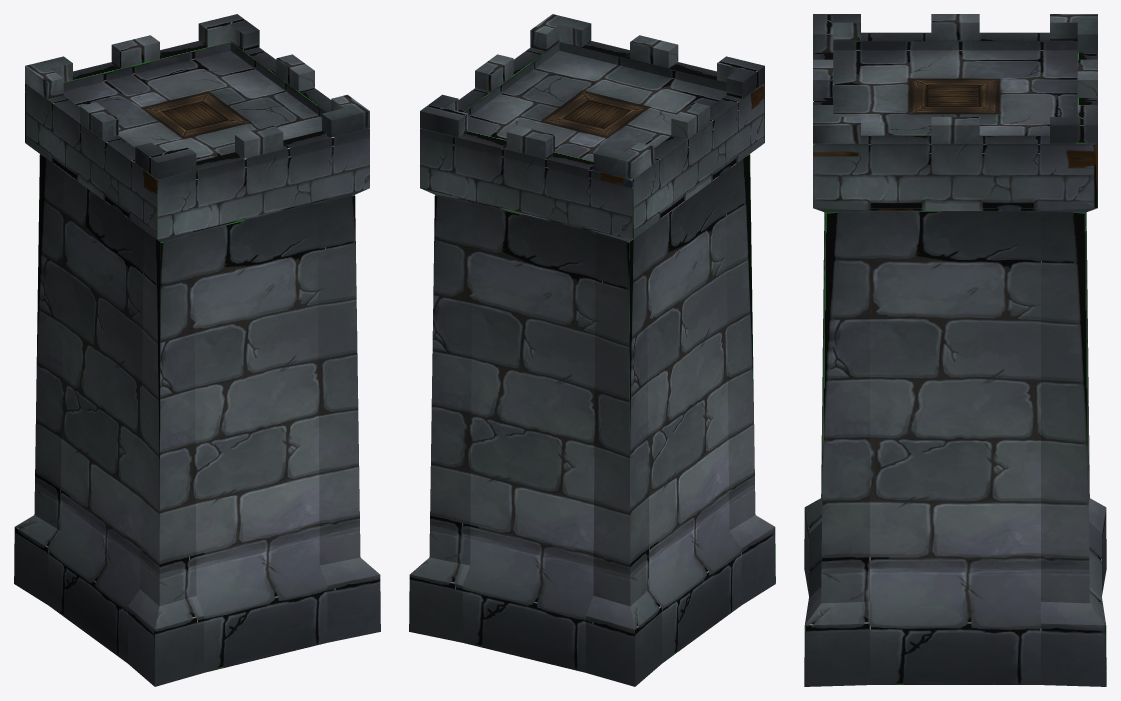
The model's file is BaseTower.FBX.
The picture shows the model from 3 angles, left to right: view 1: azimuth 30°, elevation 25°; view 2: azimuth 150°, elevation 25°; view 3: azimuth 270°, elevation 25°; orthographic projection. The views are drawn at different scales.
Parts seen in each view (by area): view 1: Box001; view 2: Box001; view 3: Box001.
Part boxes in pixels (<box>): Box001: <box>14,14,380,686</box>; Box001: <box>409,14,775,686</box>; Box001: <box>804,14,1106,686</box>.
Size of the model in its own units: 273 by 599 by 294.
1 material, 1 textured.
